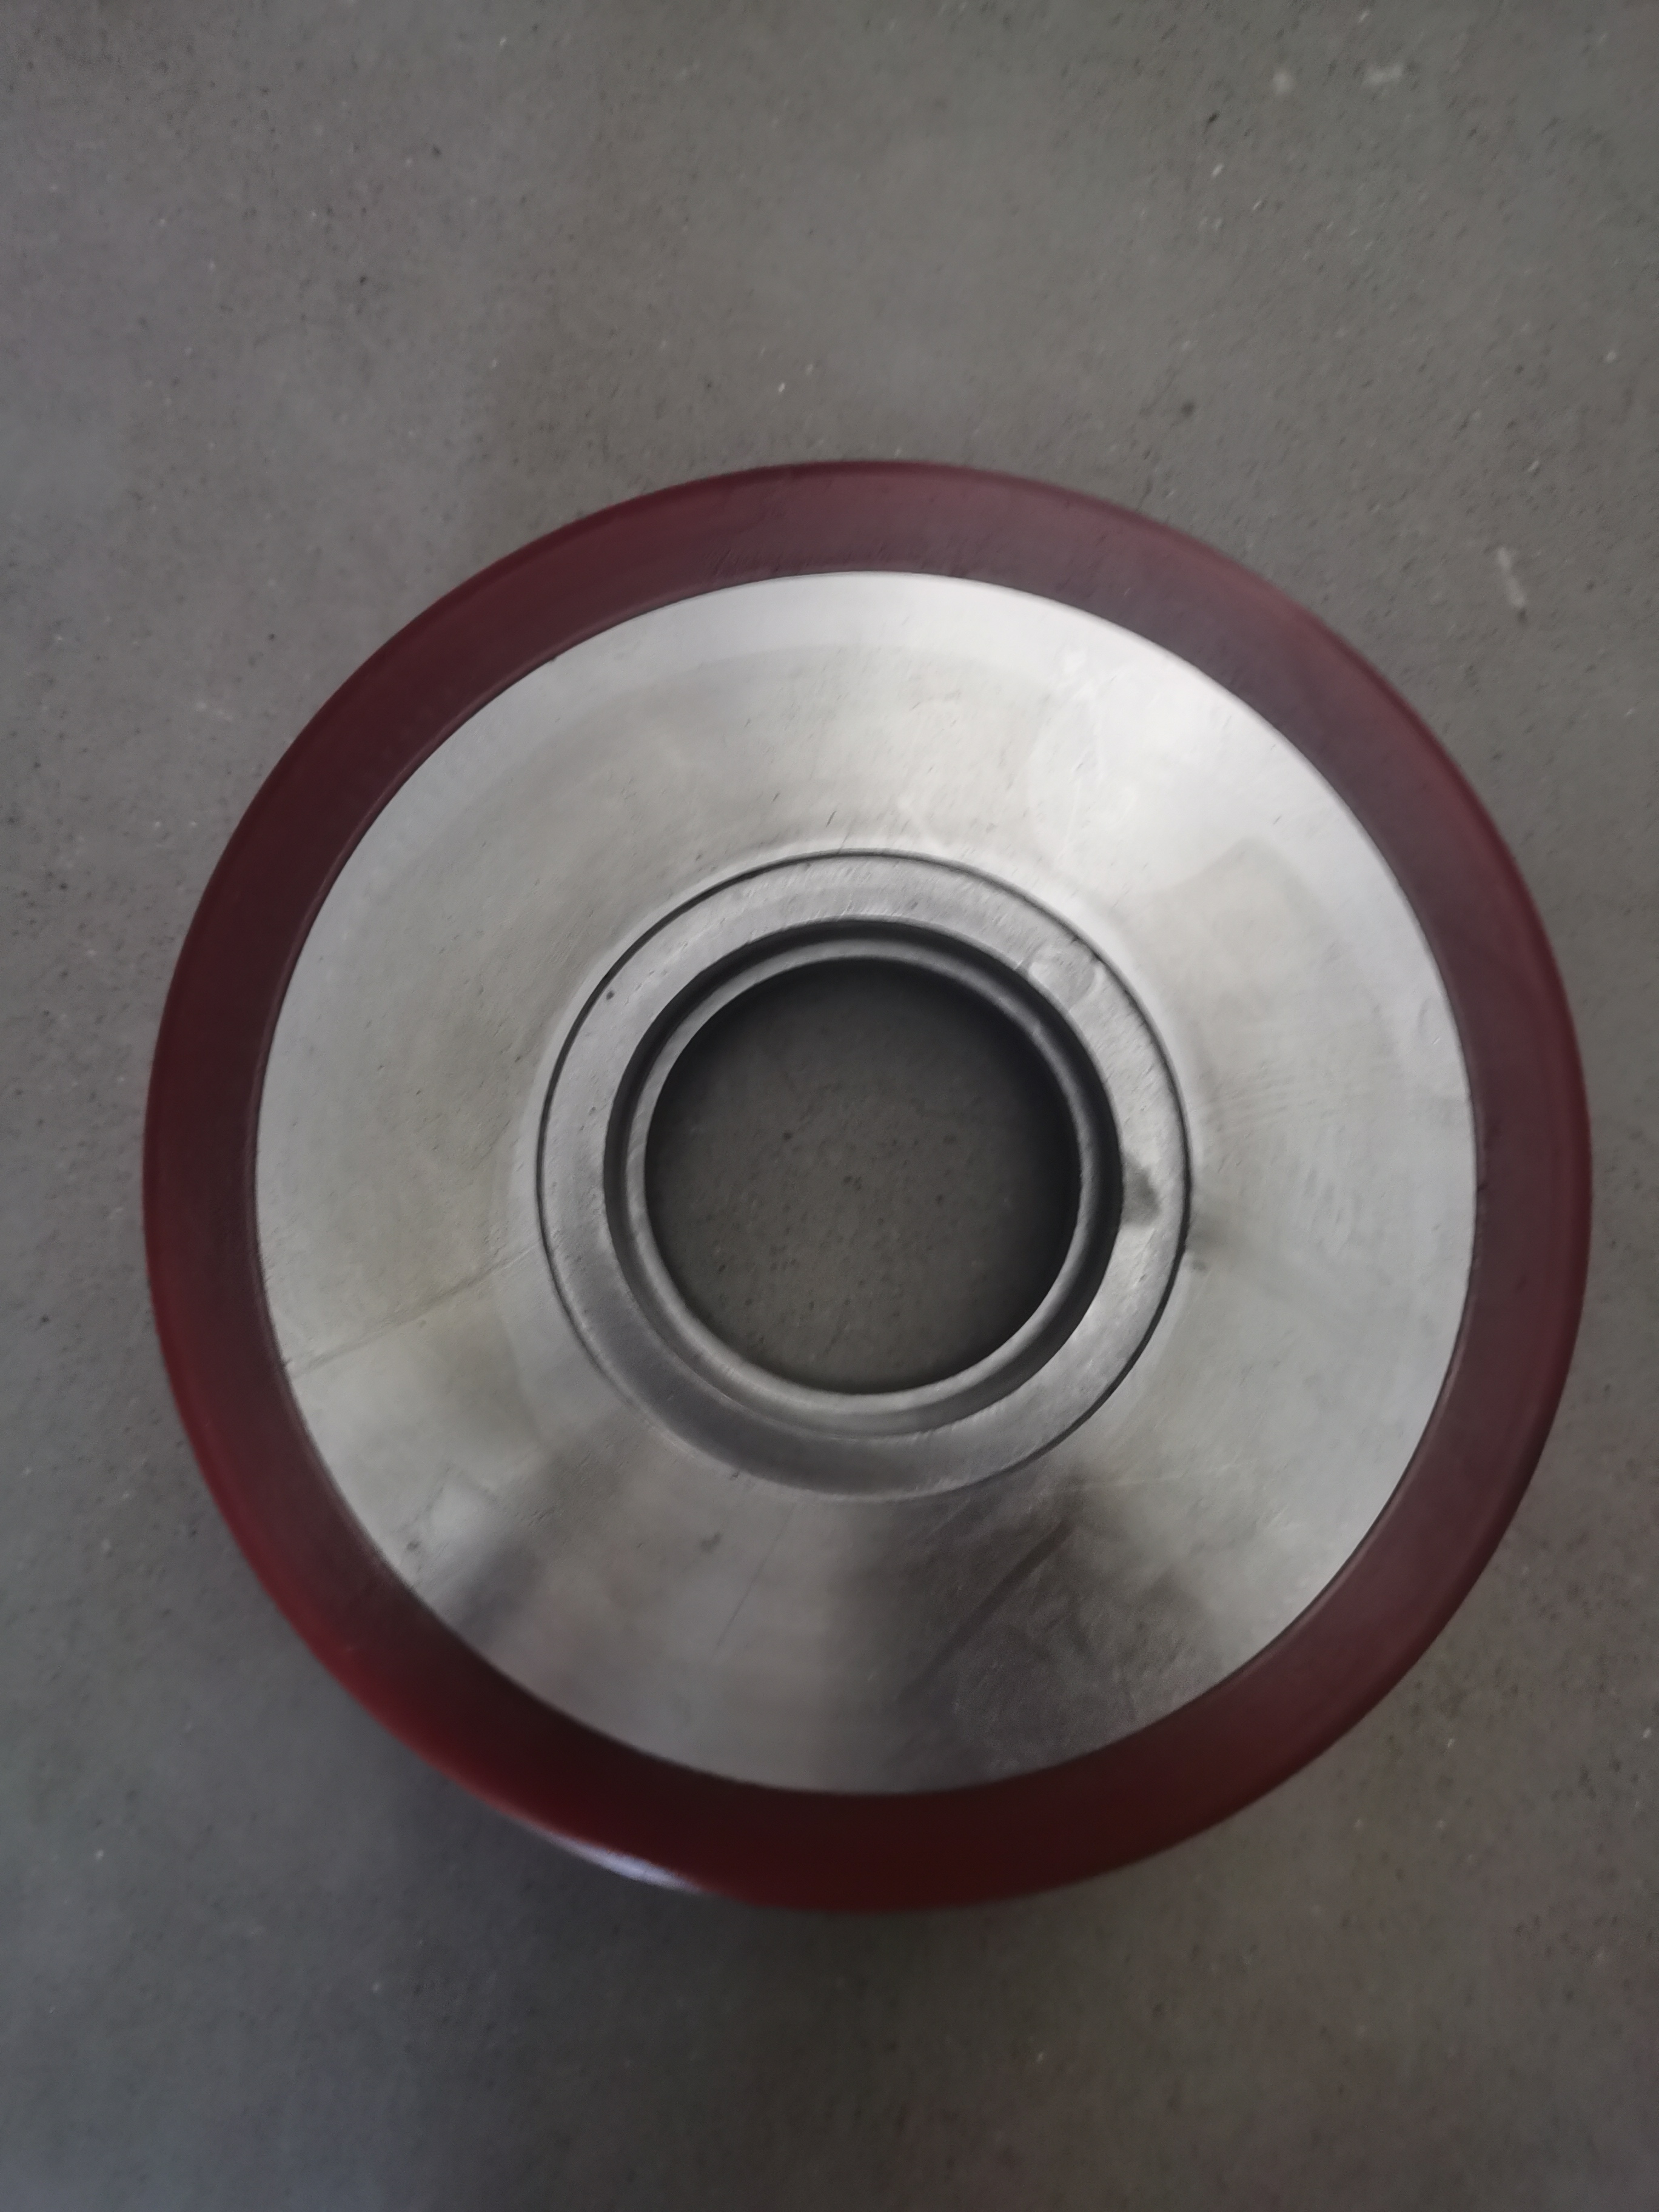good_wheel: (129, 437, 1605, 1846)
